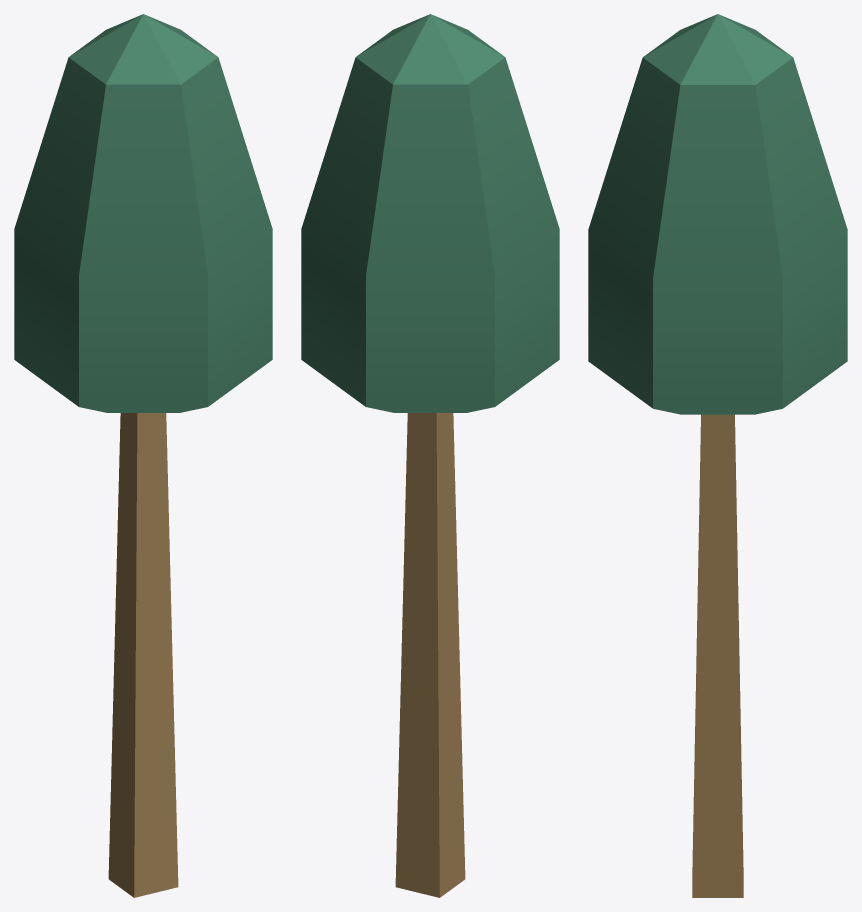
Rendered from naturePack_140.obj.
The picture shows the model from 3 angles, left to right: view 1: azimuth 30°, elevation 25°; view 2: azimuth 150°, elevation 25°; view 3: azimuth 270°, elevation 25°; orthographic projection.
Parts seen in each view (by area): view 1: Mesh1_Oak_Dark_Model.003; view 2: Mesh1_Oak_Dark_Model.003; view 3: Mesh1_Oak_Dark_Model.003.
Boxes of the visible parts, bbox=[...] form: Mesh1_Oak_Dark_Model.003: bbox=[14, 14, 272, 897]; Mesh1_Oak_Dark_Model.003: bbox=[301, 14, 559, 897]; Mesh1_Oak_Dark_Model.003: bbox=[588, 14, 847, 897].
Bounding box in the file's own units: 1.58 × 6.75 × 1.82.
